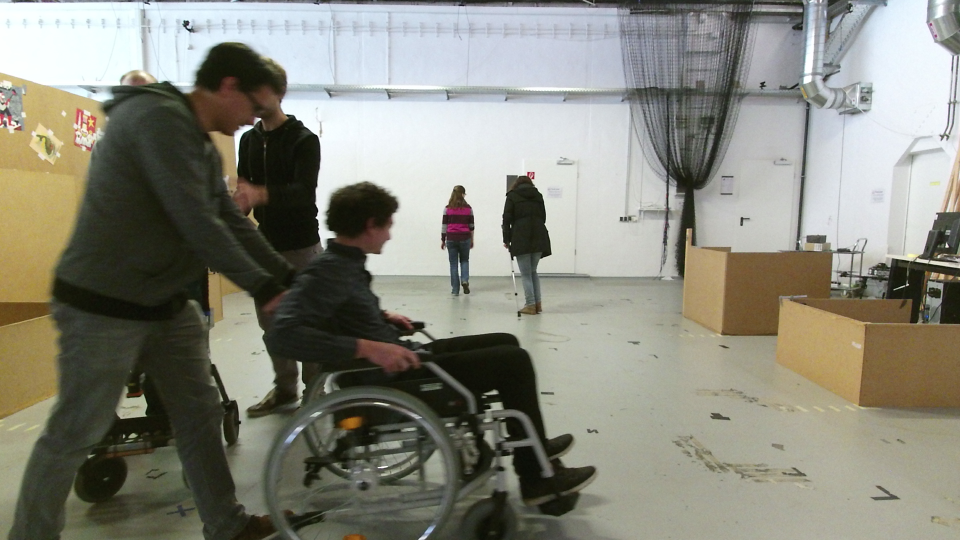crutches: (496, 167, 555, 321)
